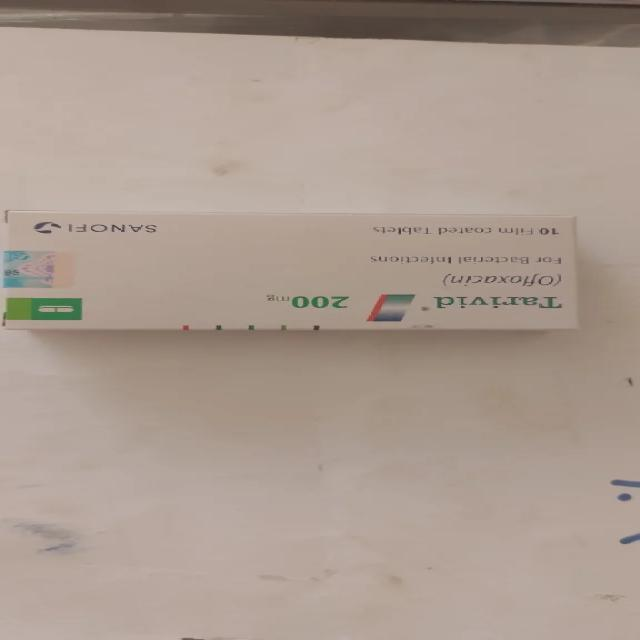drug-name: (435, 292, 566, 314)
